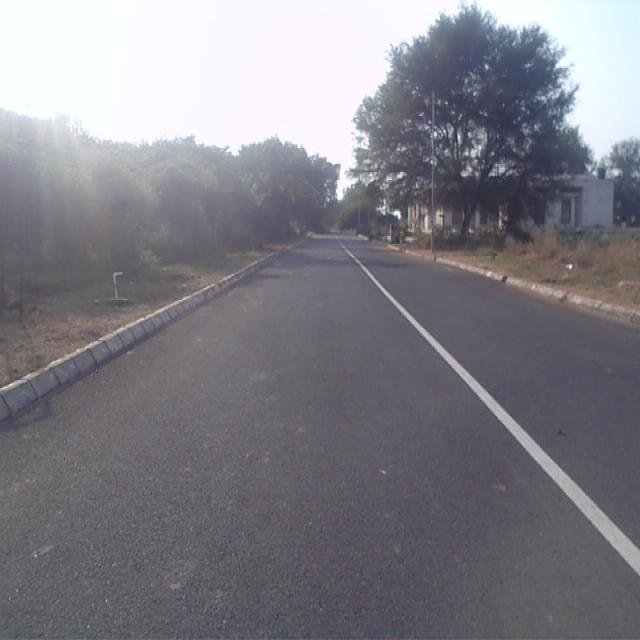lane: (0, 237, 640, 637)
